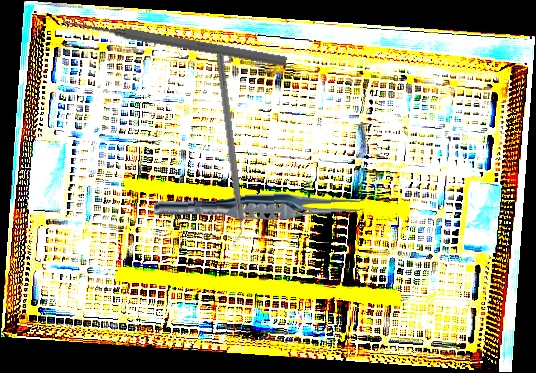Chopper: (206, 53, 247, 248)
Pusher: (61, 14, 288, 69)
Tissue Forceps: (153, 189, 366, 225)
